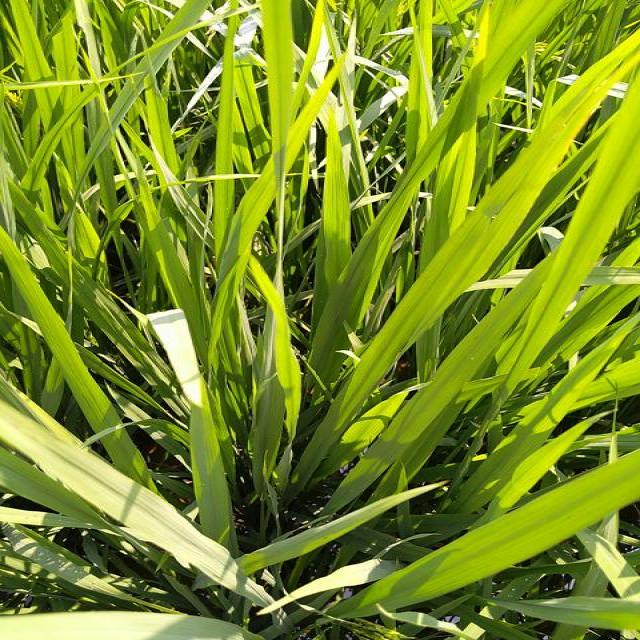Rice: (330, 447, 640, 617), (325, 188, 498, 444), (498, 30, 640, 319), (4, 230, 156, 488), (88, 0, 210, 186), (490, 318, 640, 448), (207, 168, 281, 376), (10, 0, 82, 190), (393, 0, 441, 190), (257, 0, 299, 169), (215, 6, 246, 167), (321, 116, 349, 192)
